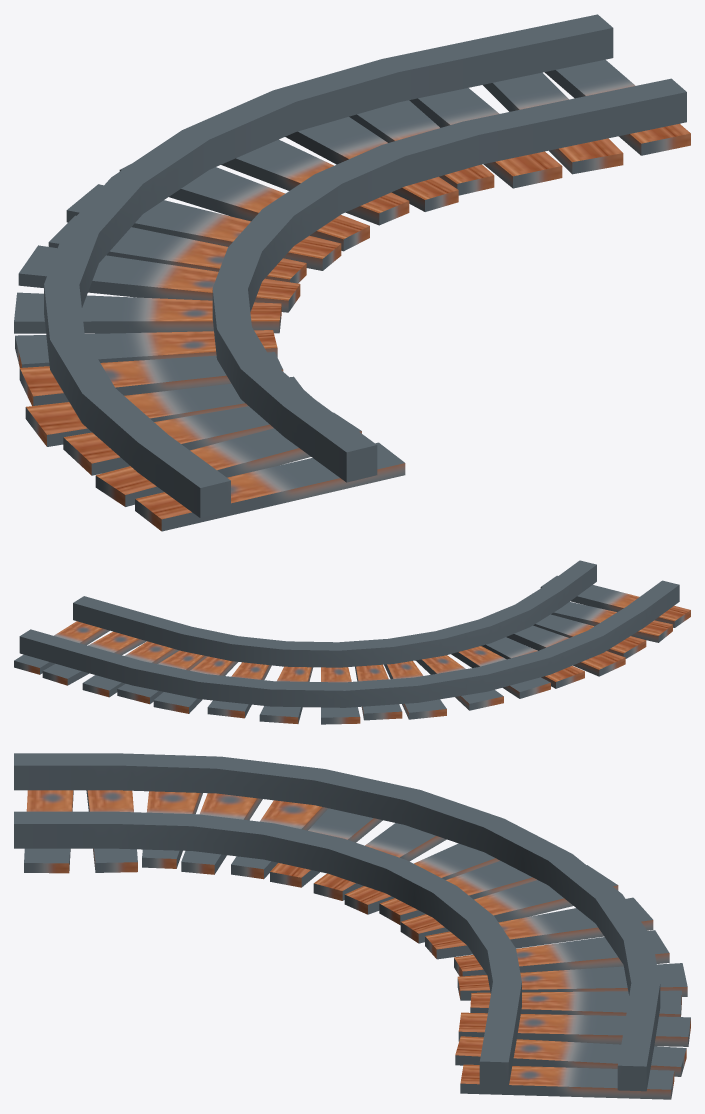
Rendered from long_turn_r_1.fbx.
The picture shows the model from 3 angles, top to bottom: view 1: azimuth 30°, elevation 25°; view 2: azimuth 150°, elevation 25°; view 3: azimuth 270°, elevation 25°; orthographic projection. The views are drawn at different scales.
Visible parts, largest first — view 1: long_turn_r_1; view 2: long_turn_r_1; view 3: long_turn_r_1.
Part boxes in pixels (x1,y1,x2,y2): long_turn_r_1: [14, 14, 690, 531]; long_turn_r_1: [14, 560, 690, 724]; long_turn_r_1: [14, 753, 690, 1099].
Bounding box in the file's own units: 41.43 × 2.08 × 36.27.
